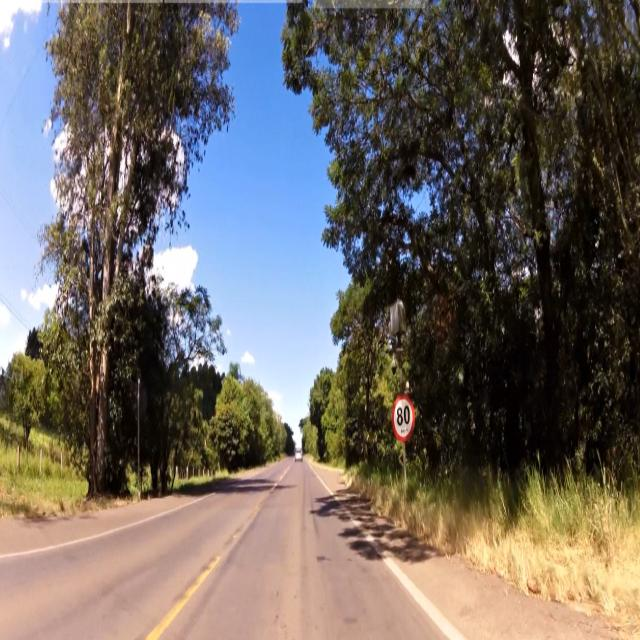R-19: (392, 393, 416, 444)
